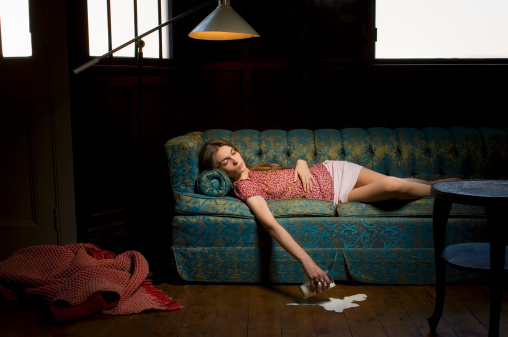deitado: (202, 136, 353, 291)
